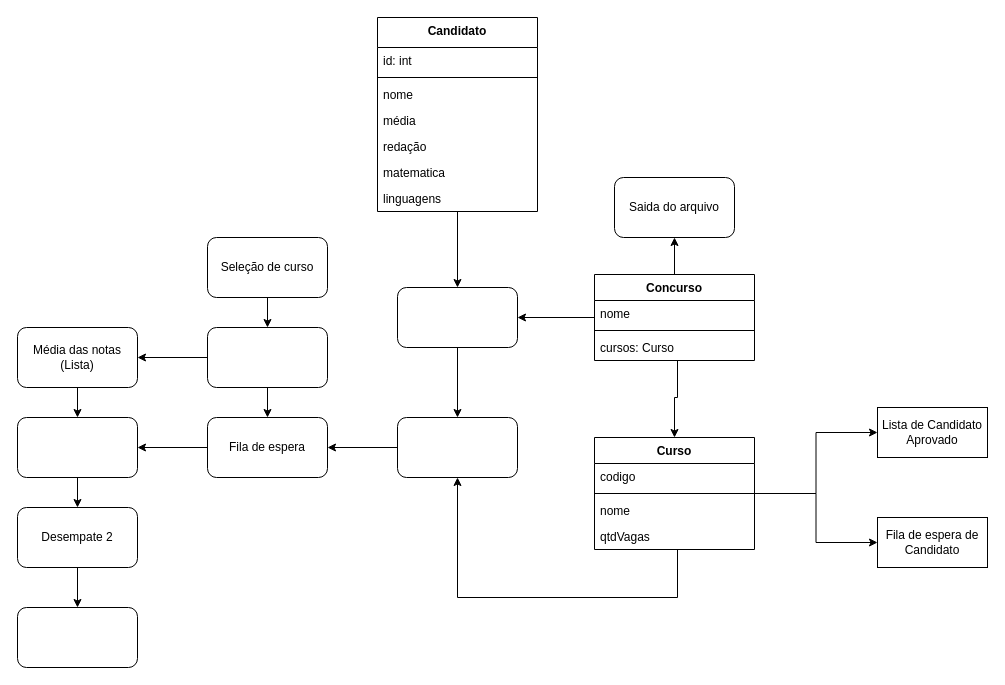
This 1005x685 diagram has some shape labels left out. Each missing label, with the centre of its shape:
"Desempate 1" belongs at (x=77, y=447).
"Desempate 3" belongs at (x=77, y=637).
"Gerenciamento de vagas" belongs at (x=267, y=357).
"Leitura do arquivo" belongs at (x=457, y=317).
"Seleção de nota de corte (algoritmo de ordenação)" belongs at (x=457, y=447).
